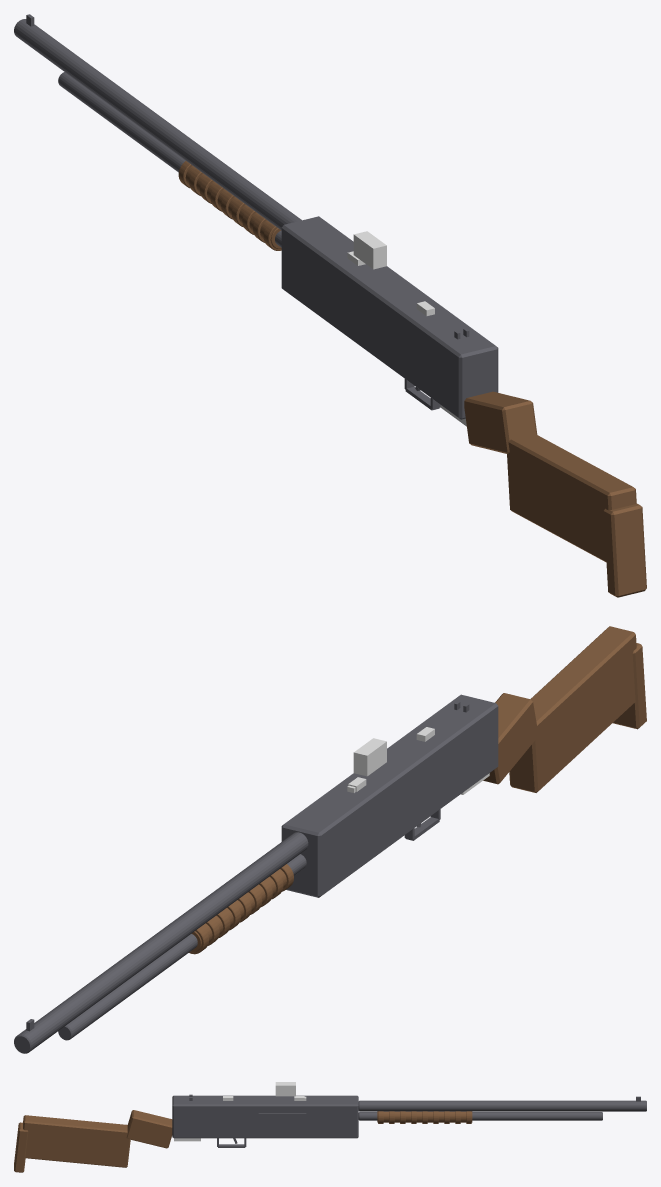
3 renders of one model, top to bottom at view 1: azimuth 30°, elevation 25°; view 2: azimuth 150°, elevation 25°; view 3: azimuth 270°, elevation 25°, orthographic. The views are drawn at different scales.
Visible parts, largest first — view 1: Shotgun_PumpAction, HoloCut.015; view 2: Shotgun_PumpAction, HoloCut.015; view 3: Shotgun_PumpAction, HoloCut.015.
Boxes of the visible parts, bbox=[...] form: Shotgun_PumpAction: bbox=[14, 14, 646, 597]; HoloCut.015: bbox=[353, 231, 386, 269]; Shotgun_PumpAction: bbox=[14, 626, 646, 1053]; HoloCut.015: bbox=[353, 738, 386, 776]; Shotgun_PumpAction: bbox=[14, 1094, 646, 1172]; HoloCut.015: bbox=[275, 1082, 295, 1096].
Bounding box in the file's own units: 7.35 × 27.83 × 187.
